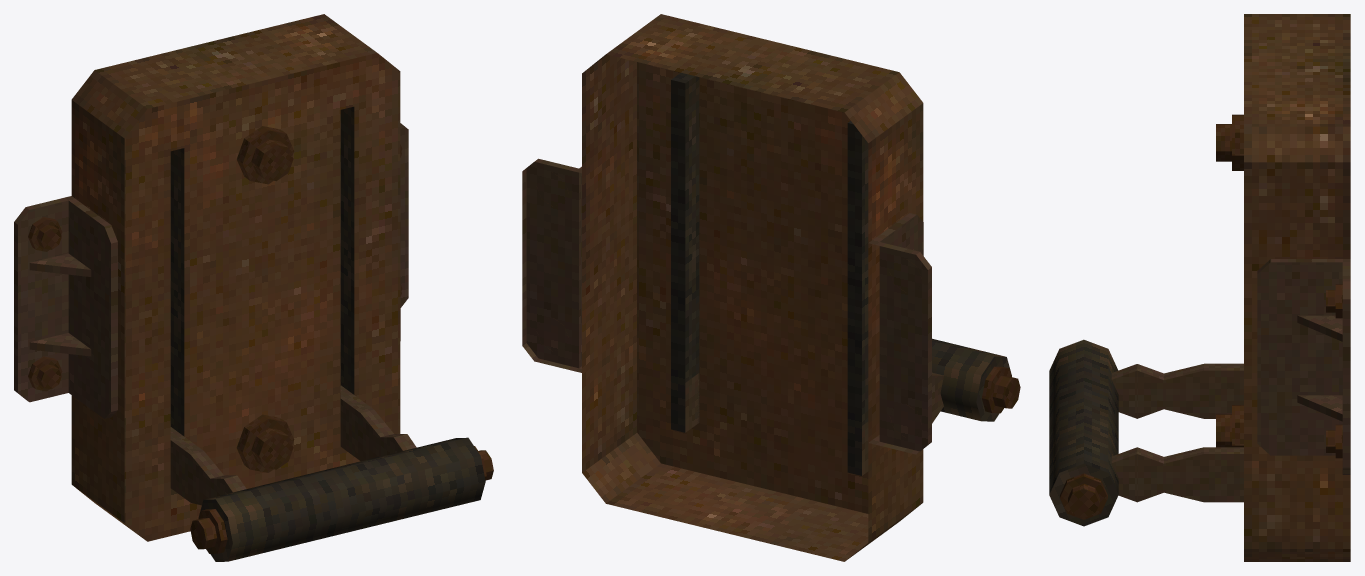
File: lever_etx_1_1.glb
3 renders of one model, left to right at view 1: azimuth 30°, elevation 25°; view 2: azimuth 150°, elevation 25°; view 3: azimuth 270°, elevation 25°, orthographic. The views are drawn at different scales.
Visible parts, largest first — view 1: lever_etx_1_1, lever_etx_1_1_child; view 2: lever_etx_1_1, lever_etx_1_1_child; view 3: lever_etx_1_1, lever_etx_1_1_child.
Boxes of the visible parts, x1,y1,x2,y2 form: lever_etx_1_1: [14, 14, 408, 541]; lever_etx_1_1_child: [170, 385, 493, 561]; lever_etx_1_1: [522, 14, 931, 561]; lever_etx_1_1_child: [685, 338, 1020, 475]; lever_etx_1_1: [1216, 14, 1350, 561]; lever_etx_1_1_child: [1049, 339, 1243, 526].
Bounding box in the file's own units: 0.306 × 0.324 × 0.2034.
Materials: 1 (1 with a texture image).
